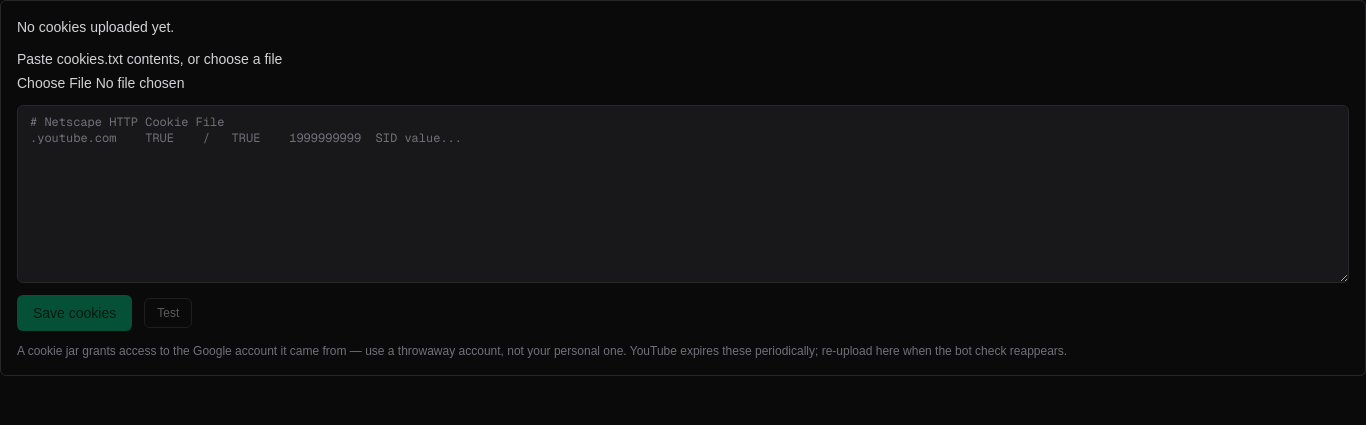
AdminCookiesPanel › renders the server's error message on a failed save
Expected: the text "No cookies uploaded yet." is shown, [17,19,174,35]
Type "bad-cookies" into the text box with placeholder "Netscape HTTP Cookie File" at (683, 194), box [17,105,1349,283]
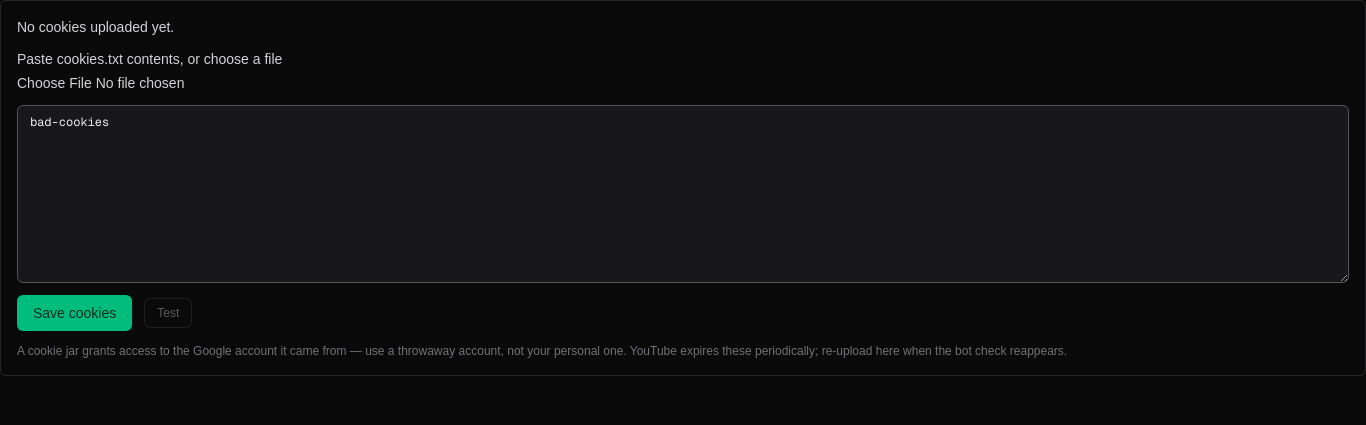
Click the button "Save cookies" at (75, 313), box [17,295,132,331]
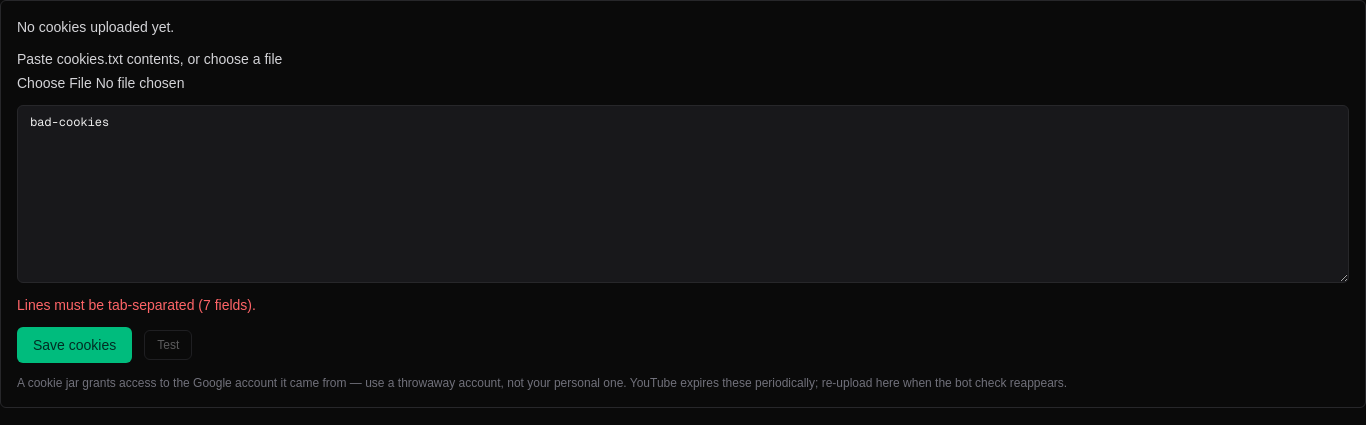
Expected: the text "Lines must be tab-separated (7 fields)." is shown, [17,297,256,313]
